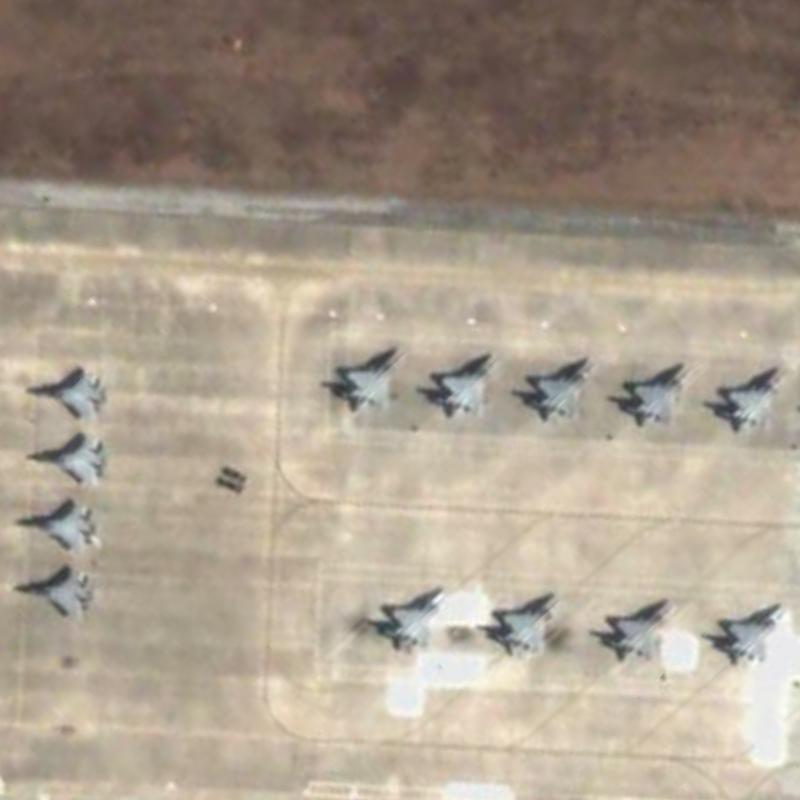A13: (597, 594, 679, 666), (482, 591, 565, 658), (372, 584, 450, 655), (712, 368, 791, 436), (10, 497, 103, 554), (620, 361, 696, 430), (333, 344, 404, 415), (10, 563, 98, 620), (21, 365, 110, 421), (712, 603, 788, 668), (427, 352, 497, 422), (21, 432, 110, 486), (528, 357, 597, 423)
